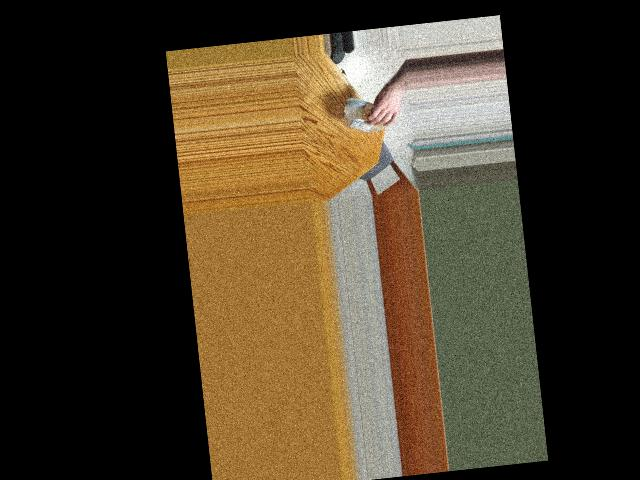cheese: (346, 99, 386, 132)
